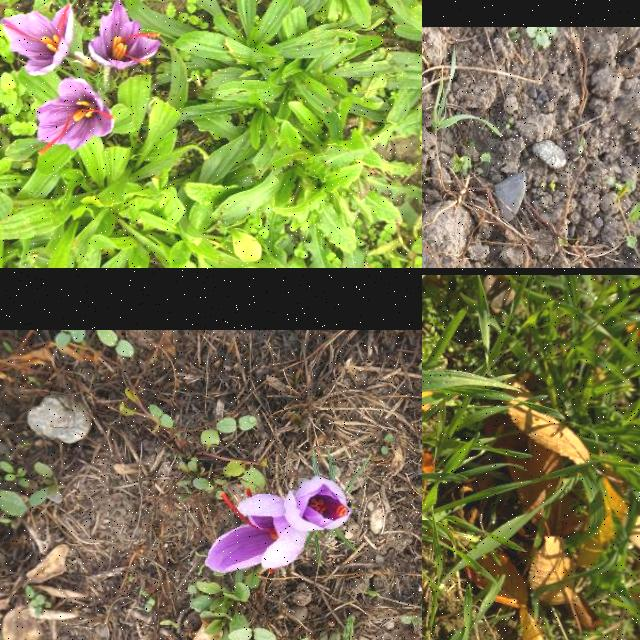flower: (205, 490, 309, 574), (36, 78, 116, 156), (2, 5, 74, 77), (89, 0, 163, 69), (285, 478, 351, 532)
